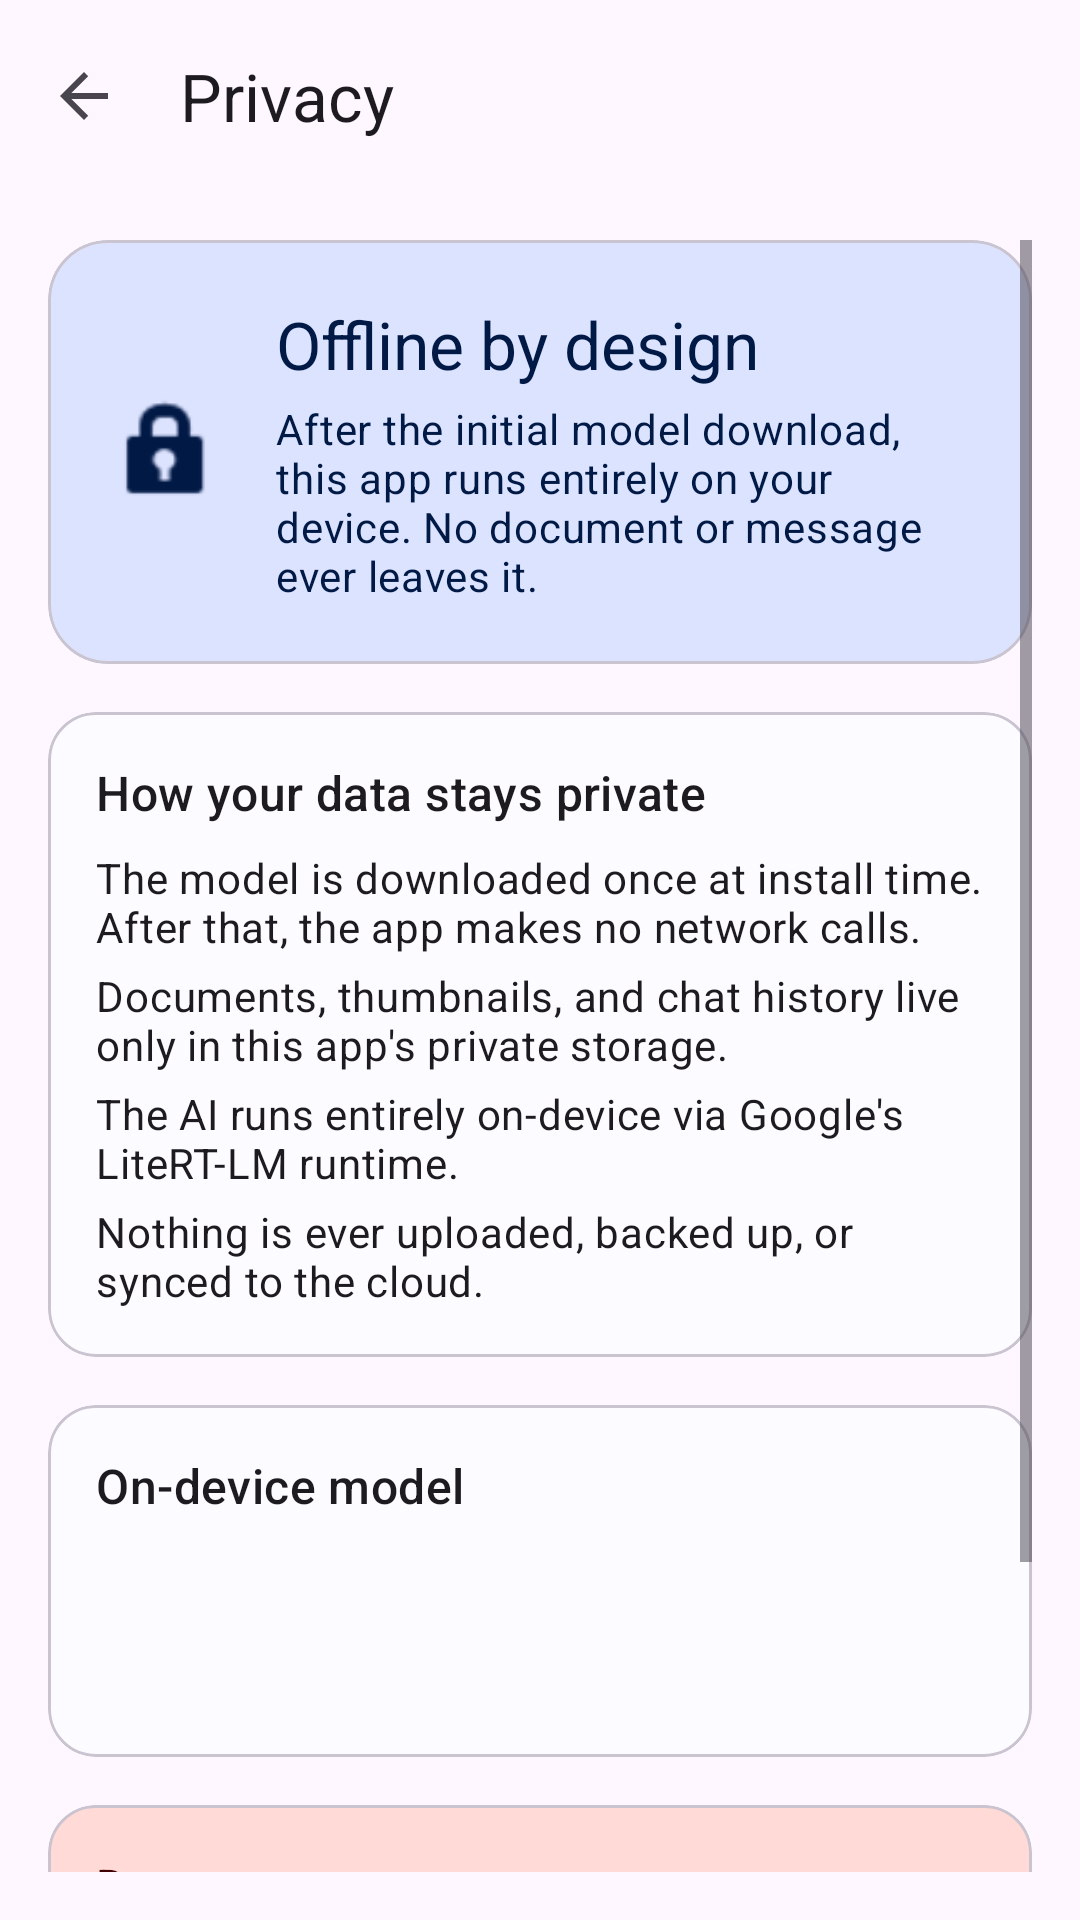

Point at icon controls on the screen. Image size 1080×1920, points as (x,y).
lock idle: (165,448)
